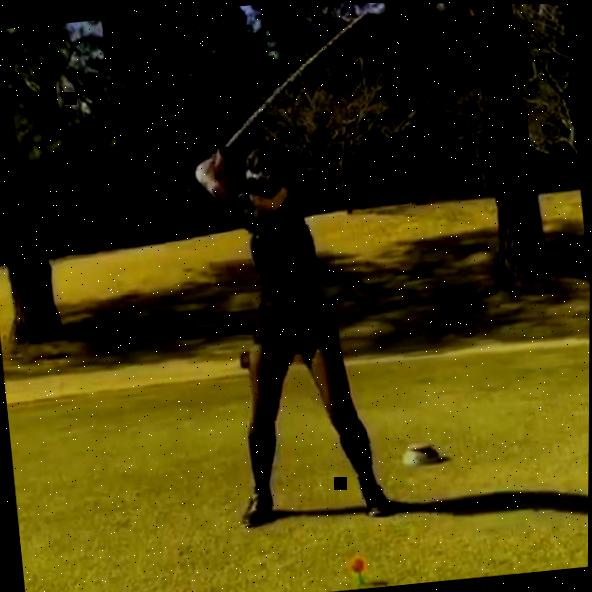ClubHead: (363, 2, 410, 16)
GolfBall: (350, 555, 366, 573)
